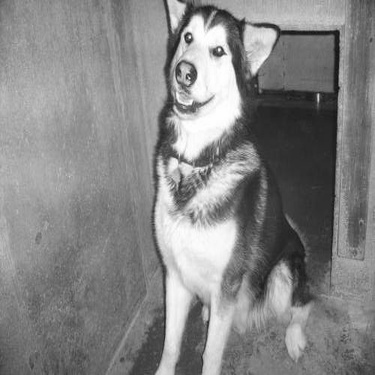dog: (131, 1, 322, 371)
